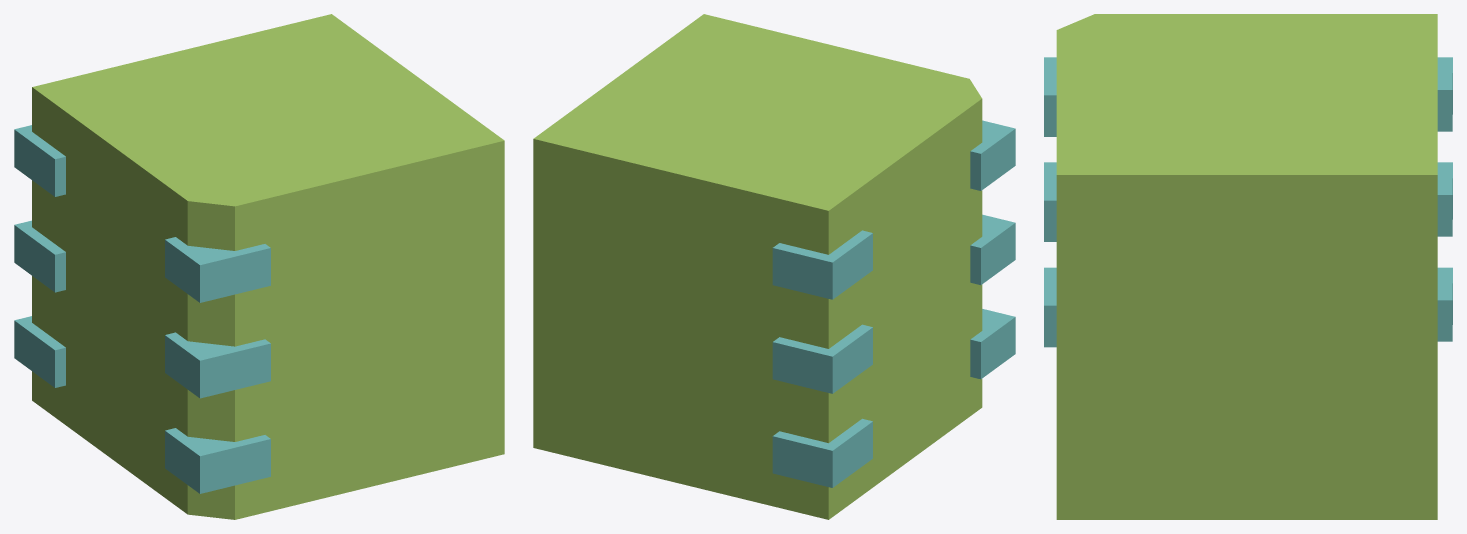
Rendered from Right Connect Bluegreen.fbx.
3 views of the same model, side by side, from view 1: azimuth 30°, elevation 25°; view 2: azimuth 150°, elevation 25°; view 3: azimuth 270°, elevation 25° (orthographic). The views are drawn at different scales.
Parts seen in each view (by area): view 1: pCube9; view 2: pCube9; view 3: pCube9.
Part boxes in pixels (x1,y1,x2,y2): pCube9: (14,14,504,519); pCube9: (533,14,1015,519); pCube9: (1044,14,1452,519).
Bounding box in the file's own units: 2.07 × 2 × 2.15.
